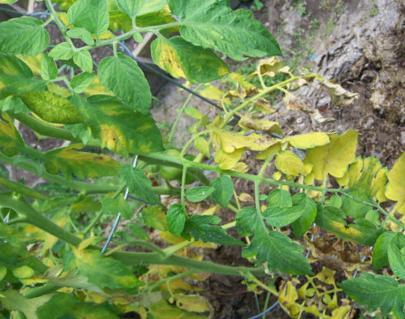Tomato leaf yellow virus: (53, 69, 189, 173), (153, 0, 306, 85), (213, 193, 331, 294), (132, 19, 234, 107), (58, 233, 155, 302), (108, 0, 172, 32)
